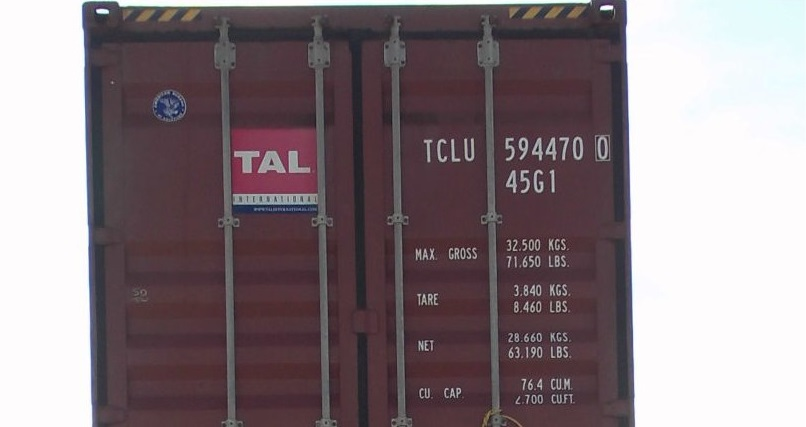container_door: (79, 7, 635, 426)
